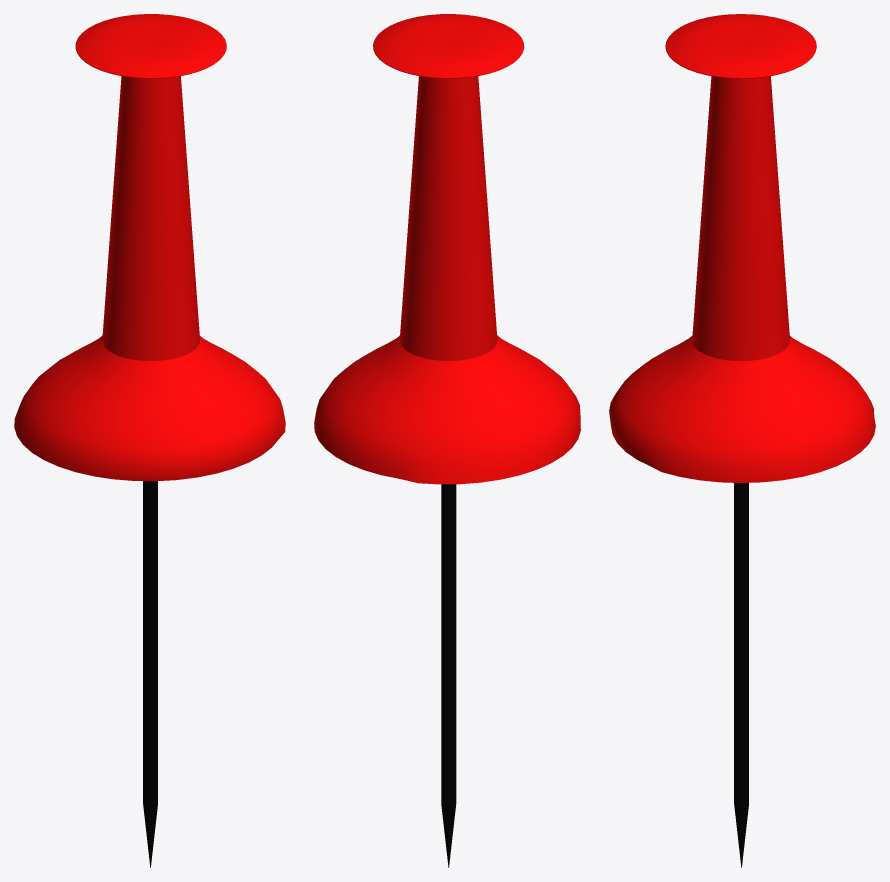
File: Red pin.fbx
3 renders of one model, left to right at view 1: azimuth 30°, elevation 25°; view 2: azimuth 150°, elevation 25°; view 3: azimuth 270°, elevation 25°, orthographic.
Parts seen in each view (by area): view 1: Line030; view 2: Line030; view 3: Line030.
Part boxes in pixels (x1,y1,x2,y2): Line030: (14,14,285,867); Line030: (314,14,580,867); Line030: (609,14,875,867).
Size of the model in its own units: 0.7398 by 2.51 by 0.7323.
